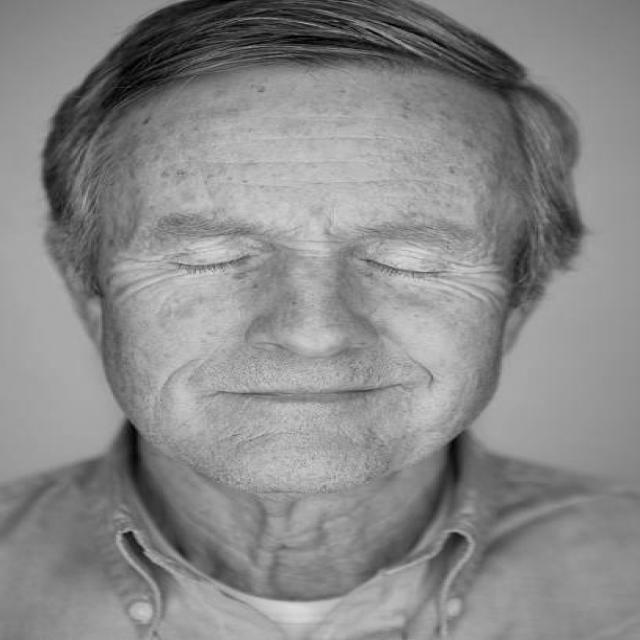real: (98, 75, 535, 485), (127, 202, 509, 291)
